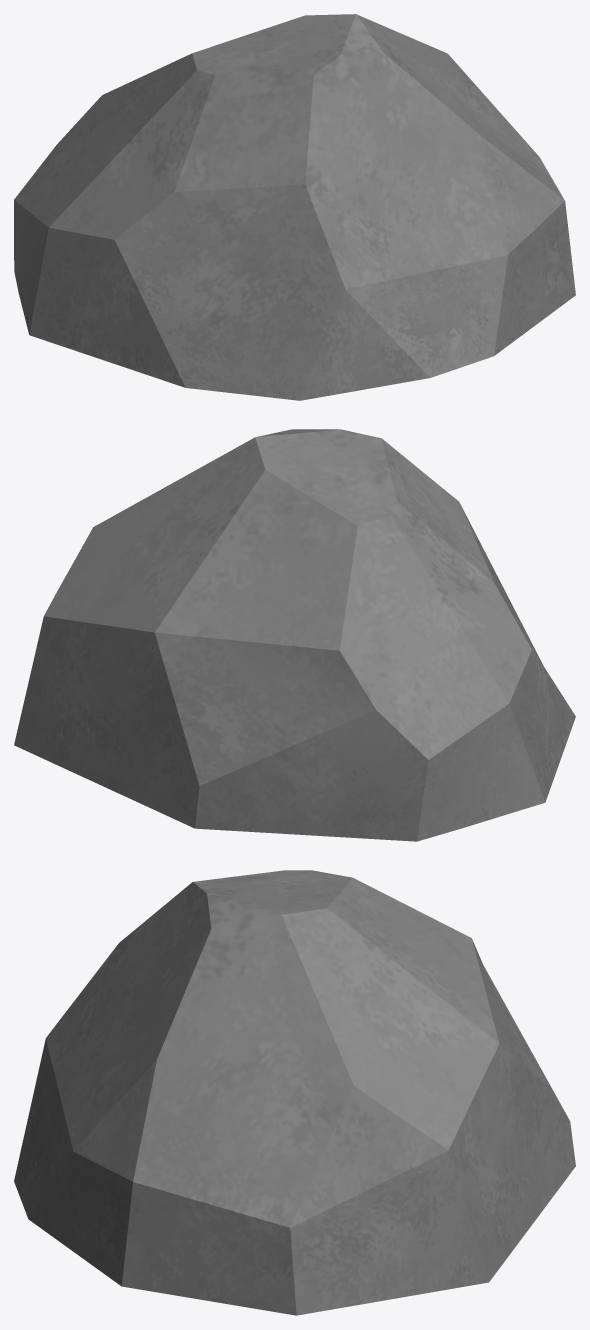
File: Mountain_2.glb
The picture shows the model from 3 angles, top to bottom: view 1: azimuth 30°, elevation 25°; view 2: azimuth 150°, elevation 25°; view 3: azimuth 270°, elevation 25°; orthographic projection. The views are drawn at different scales.
Parts seen in each view (by area): view 1: Rock.008_Rock.014; view 2: Rock.008_Rock.014; view 3: Rock.008_Rock.014.
Boxes of the visible parts, x1,y1,x2,y2 form: Rock.008_Rock.014: (14,14,575,400); Rock.008_Rock.014: (14,429,575,841); Rock.008_Rock.014: (14,870,575,1315).
Size of the model in its own units: 58.56 by 29.26 by 51.
Materials: 1 (1 with a texture image).
